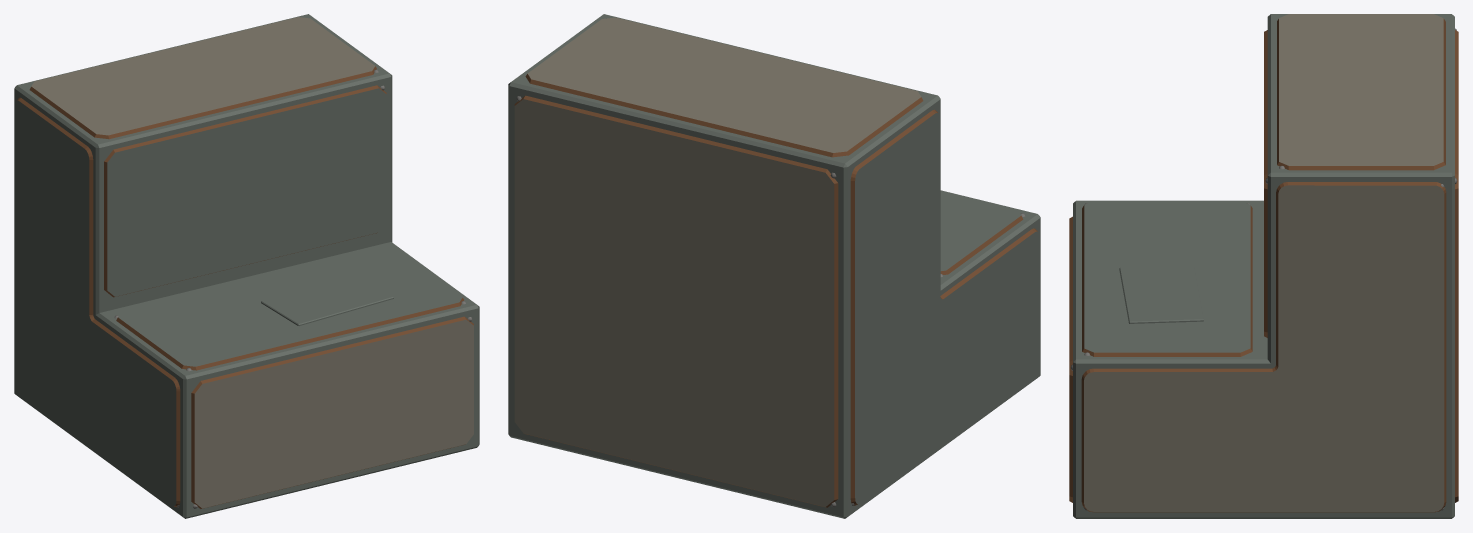
File: R4B_Step.fbx
The picture shows the model from 3 angles, left to right: view 1: azimuth 30°, elevation 25°; view 2: azimuth 150°, elevation 25°; view 3: azimuth 270°, elevation 25°; orthographic projection. The views are drawn at different scales.
Parts seen in each view (by area): view 1: R4B_Step; view 2: R4B_Step; view 3: R4B_Step.
Part boxes in pixels (x1,y1,x2,y2): R4B_Step: (14, 14, 479, 518); R4B_Step: (508, 14, 1040, 518); R4B_Step: (1069, 14, 1458, 518).
Bounding box in the file's own units: 0.52 × 0.52 × 0.52.
